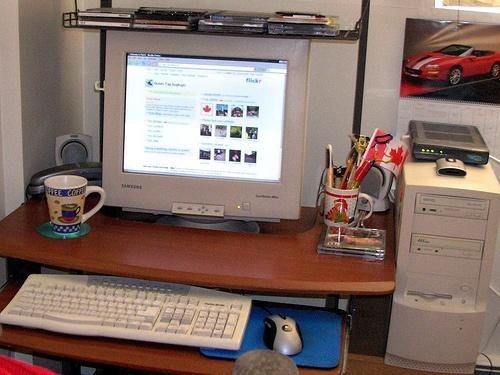tvmonitor: (103, 30, 311, 234)
